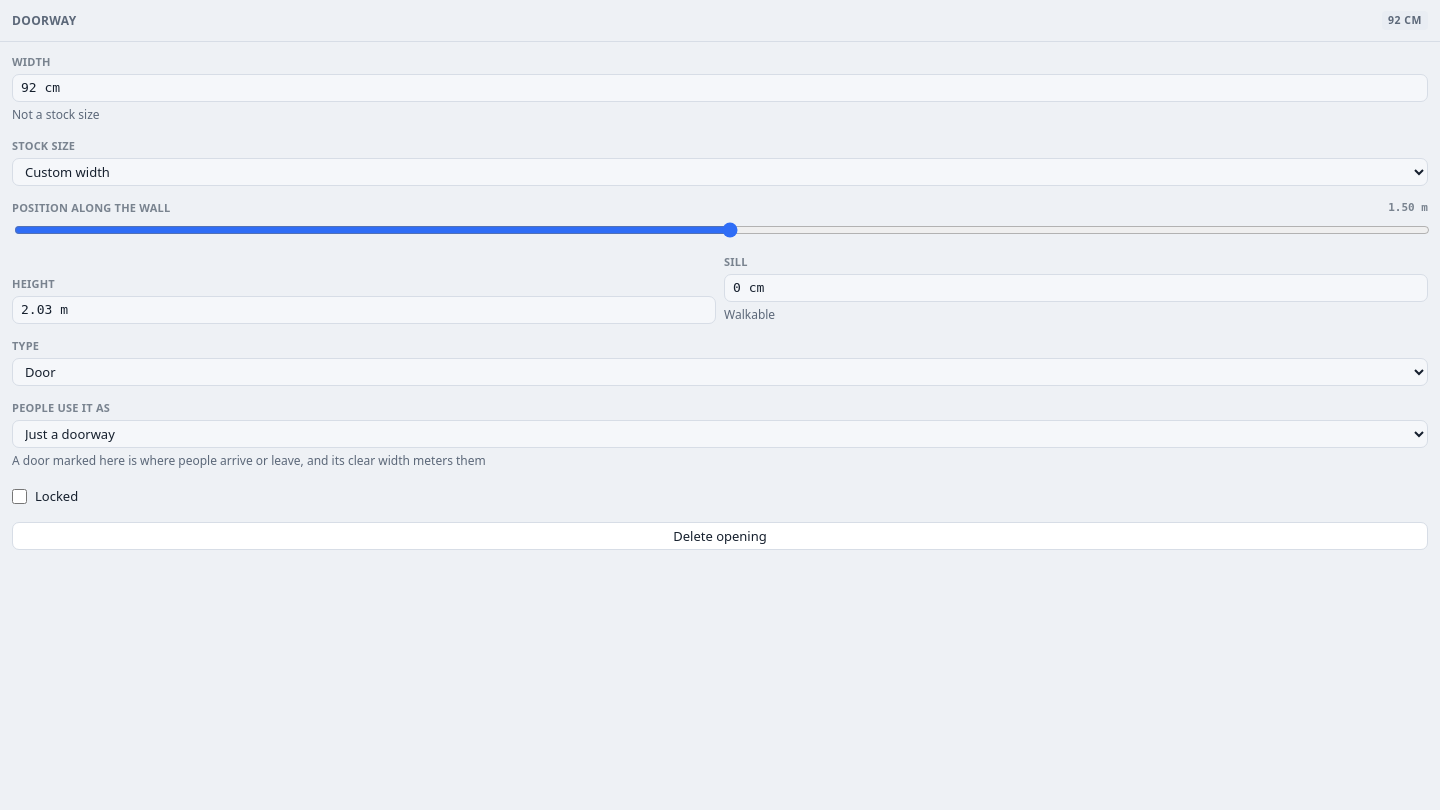
it: the inspector with a doorway selected › warns about a width nobody makes and writes an exact leaf when one is chosen
Expected: the text "Not a stock size" is shown, x1=12 y1=106 x2=100 y2=123
Select "3'0\" — Entry and accessible standard" in the dropdown labelled "Stock size": (720, 172) x1=12 y1=158 x2=1428 y2=186
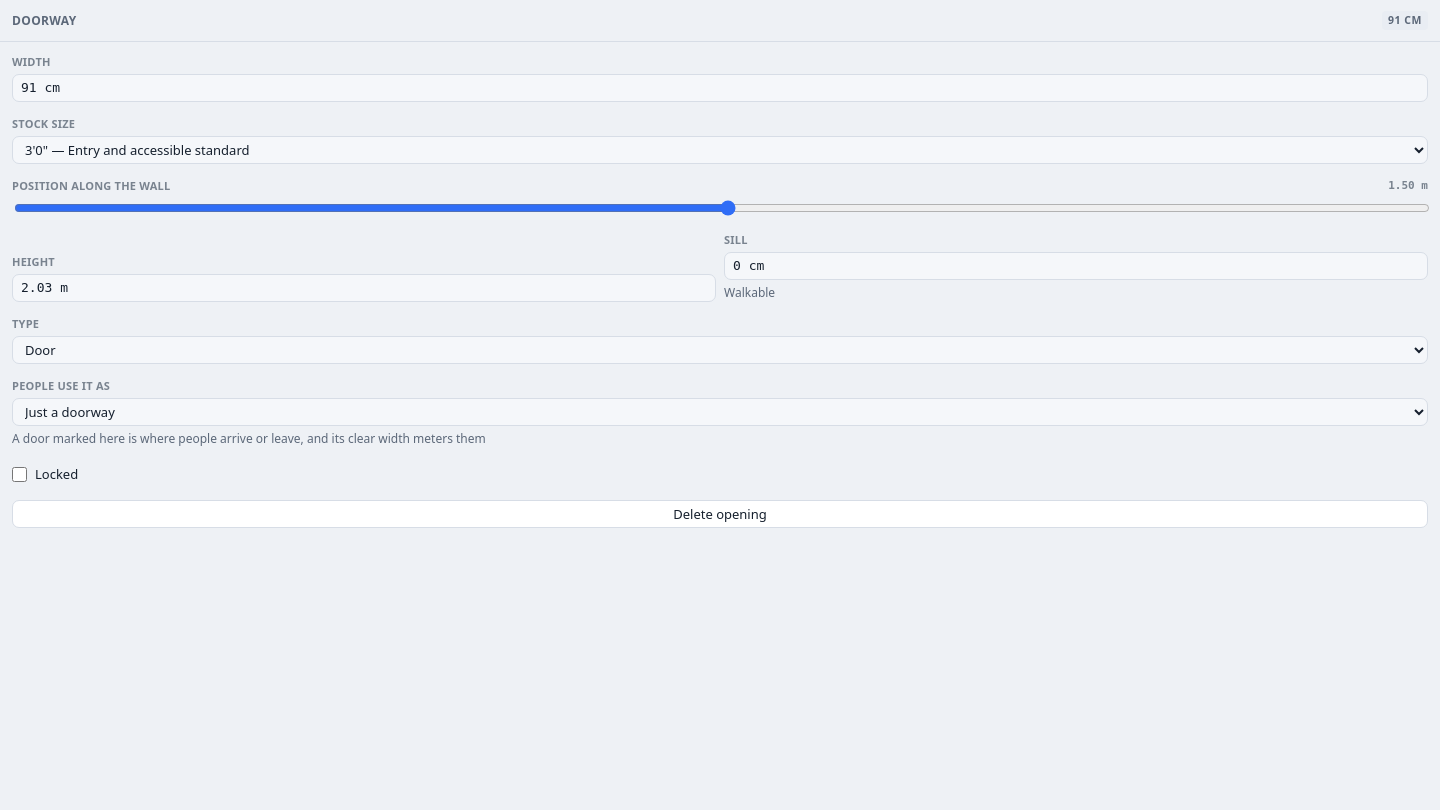
Expected: the option "Custom width" is not shown
Expected: the text "Not a stock size" is gone
